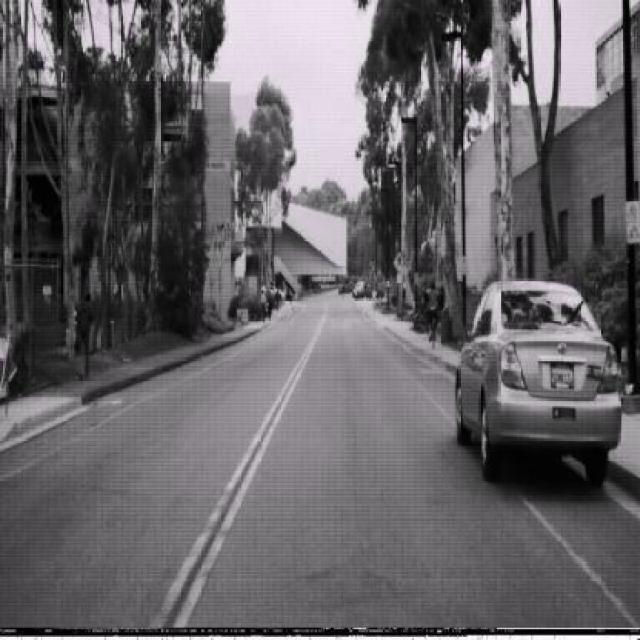pedestrianCrossing: (392, 249, 404, 272)
